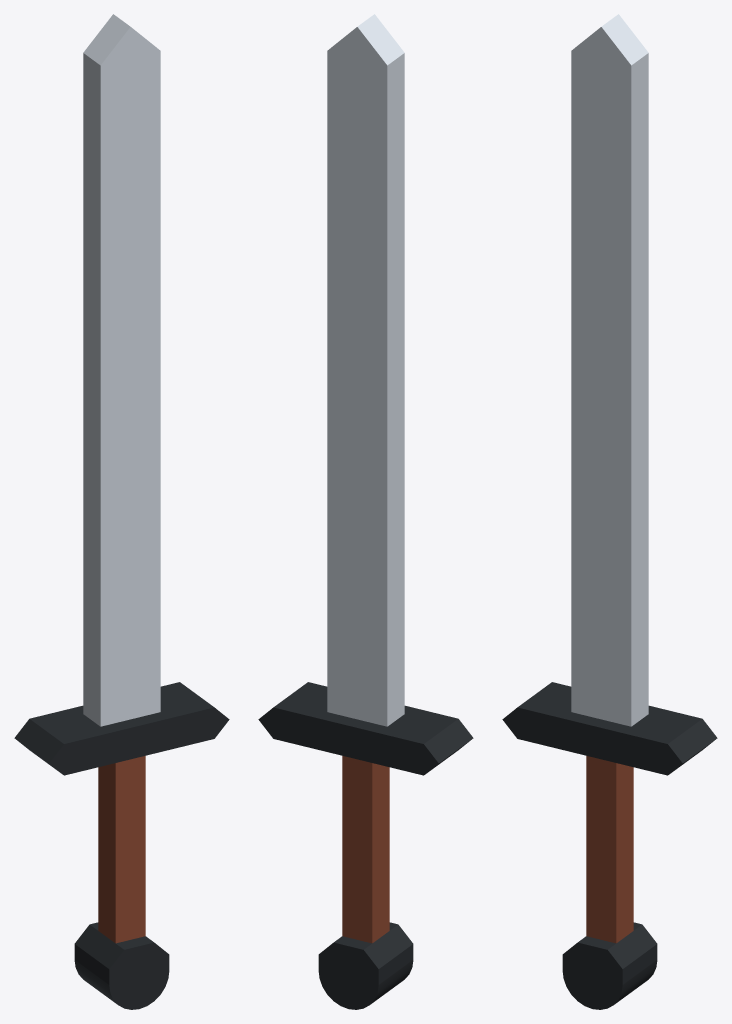
3 renders of one model, left to right at view 1: azimuth 30°, elevation 25°; view 2: azimuth 150°, elevation 25°; view 3: azimuth 330°, elevation 25°, orthographic.
Parts seen in each view (by area): view 1: generated(Clone); view 2: generated(Clone); view 3: generated(Clone).
Boxes of the visible parts, x1,y1,x2,y2 form: generated(Clone): [14, 14, 229, 1009]; generated(Clone): [258, 14, 473, 1009]; generated(Clone): [502, 14, 717, 1009].
Bounding box in the file's own units: 6 × 31 × 2.
